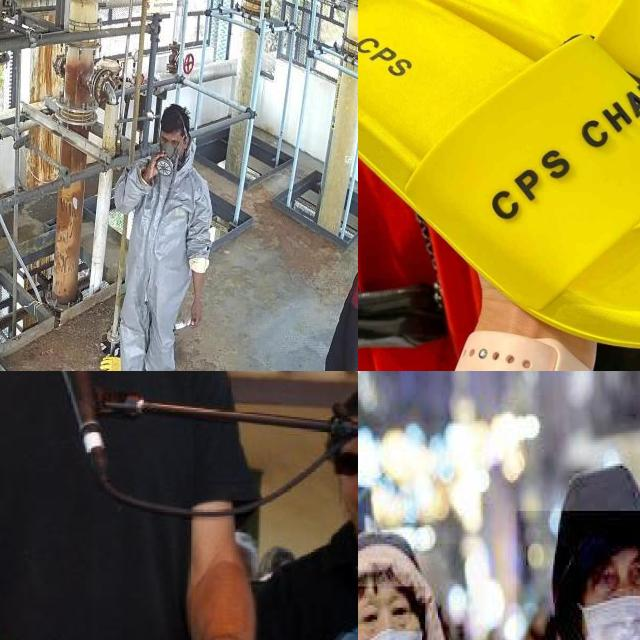Sandals: (358, 0, 640, 371)
face_mask: (578, 539, 640, 640), (358, 586, 425, 640), (155, 132, 183, 176)
face_nomask: (333, 442, 358, 514)
glasses: (330, 445, 358, 478)
hand_noglove: (144, 153, 168, 181), (187, 296, 205, 333)
head_nohelmet: (567, 460, 640, 568), (358, 539, 409, 591), (332, 378, 358, 429), (160, 102, 192, 131)
person: (0, 371, 267, 640), (100, 98, 215, 371), (268, 371, 358, 640), (516, 511, 640, 640), (295, 181, 358, 371)
